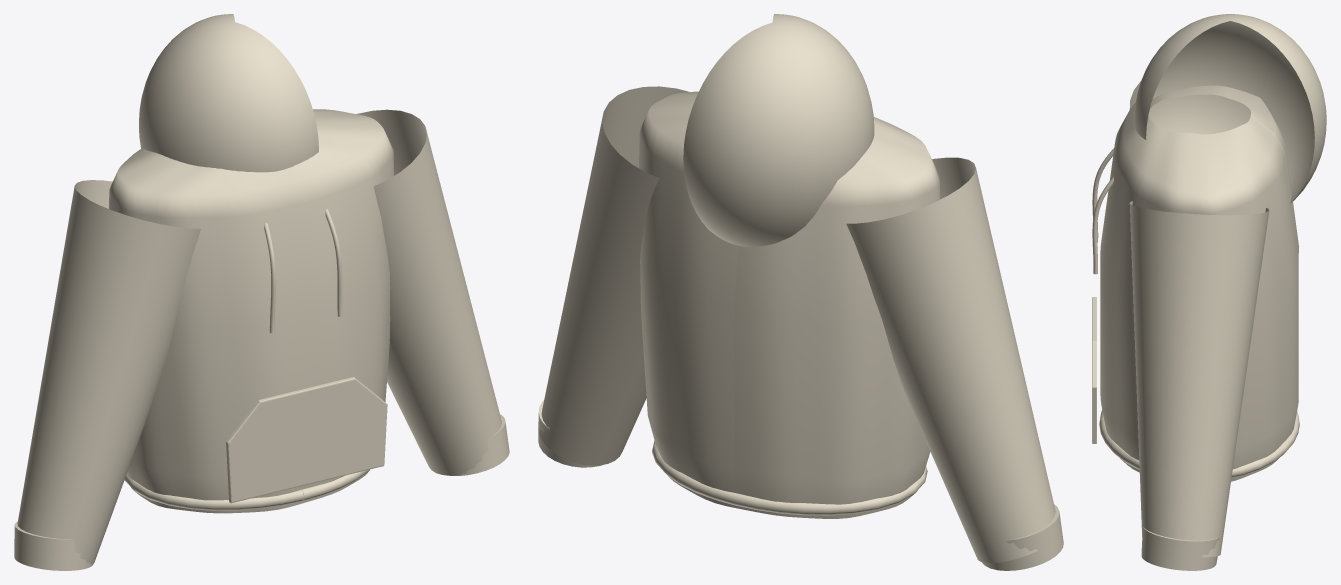
The model's file is hoodie-ecru-femme.glb.
3 views of the same model, side by side, from view 1: azimuth 30°, elevation 25°; view 2: azimuth 150°, elevation 25°; view 3: azimuth 270°, elevation 25° (orthographic). The views are drawn at different scales.
Visible parts, largest first — view 1: hoodie-ecru, long-sleeve (×2); view 2: hoodie-ecru, long-sleeve (×2); view 3: hoodie-ecru, long-sleeve.
Part boxes in pixels (box(x1,y1,x2,y2)): hoodie-ecru: box(14, 14, 509, 570); long-sleeve (×2): box(17, 109, 501, 564); hoodie-ecru: box(538, 14, 1063, 570); long-sleeve (×2): box(538, 86, 1055, 563); hoodie-ecru: box(1092, 14, 1326, 570); long-sleeve: box(1129, 201, 1269, 557).
Bounding box in the file's own units: 0.7702 × 0.7203 × 0.341.
